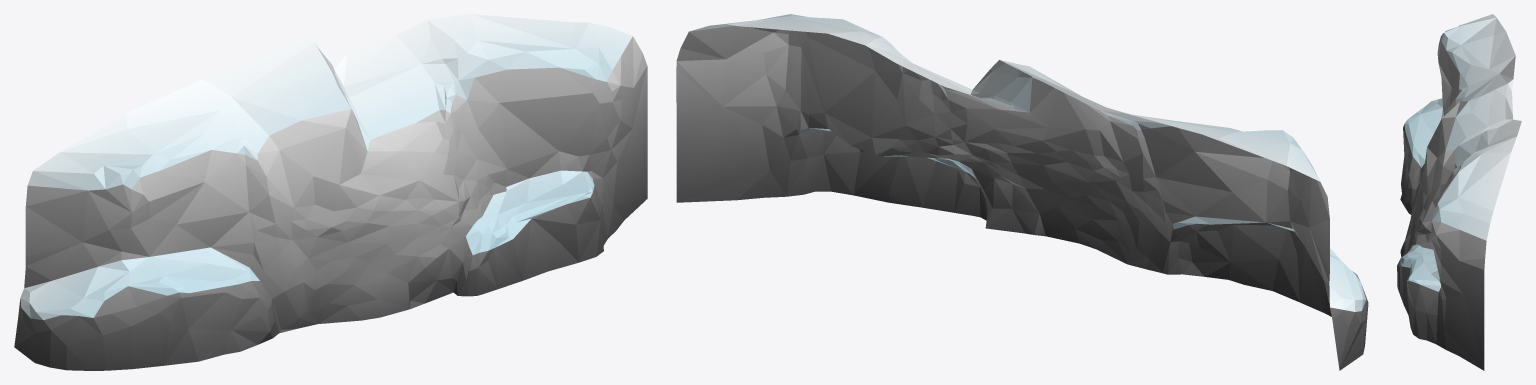
Rendered from Cliff_3.FBX.
3 views of the same model, side by side, from view 1: azimuth 30°, elevation 25°; view 2: azimuth 150°, elevation 25°; view 3: azimuth 270°, elevation 25° (orthographic). The views are drawn at different scales.
Parts seen in each view (by area): view 1: Cliff_3; view 2: Cliff_3; view 3: Cliff_3.
Part boxes in pixels (x1,y1,x2,y2): Cliff_3: (14, 14, 647, 370); Cliff_3: (676, 14, 1368, 370); Cliff_3: (1397, 14, 1521, 370).
Size of the model in its own units: 145 by 49.78 by 32.66.
